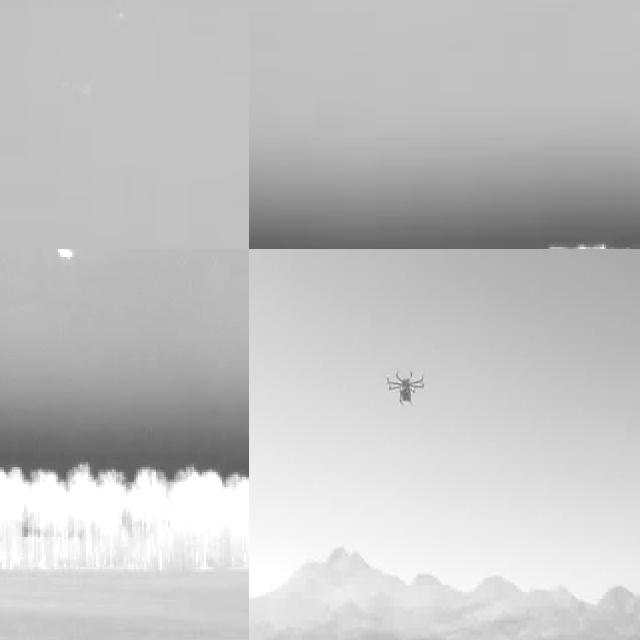0: (72, 80, 96, 107), (109, 6, 131, 28)
1: (47, 249, 83, 271)
drone: (382, 362, 426, 414)
